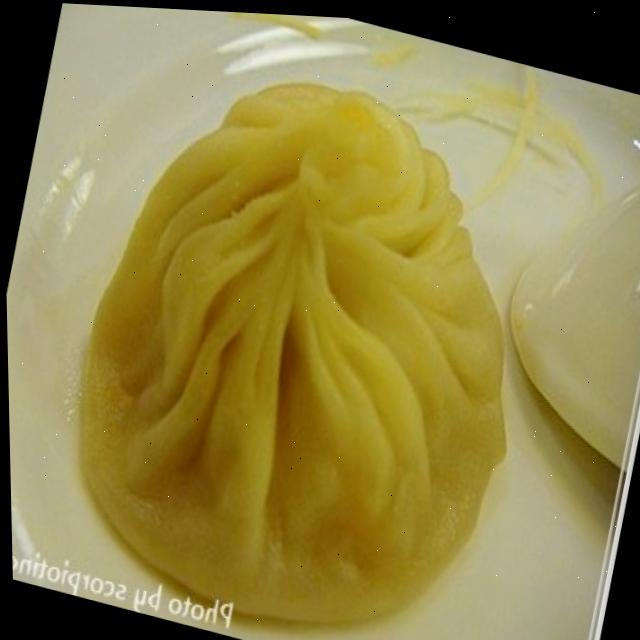带馅早点: (3, 0, 623, 640)
